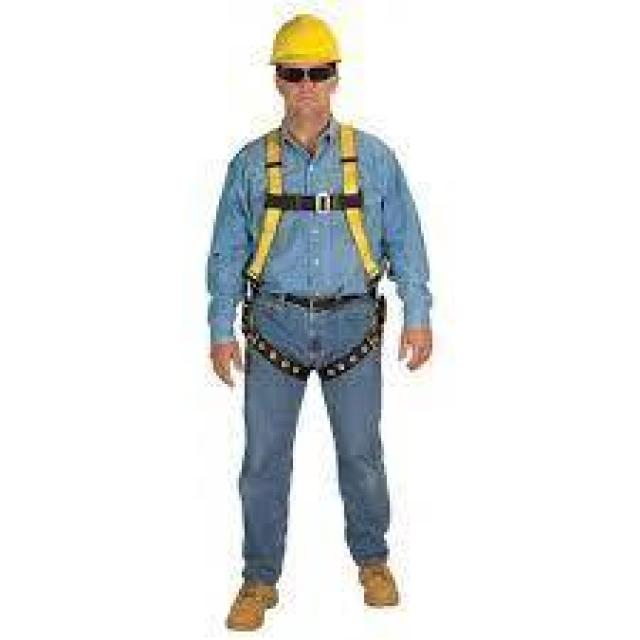Harness: (240, 125, 390, 384)
